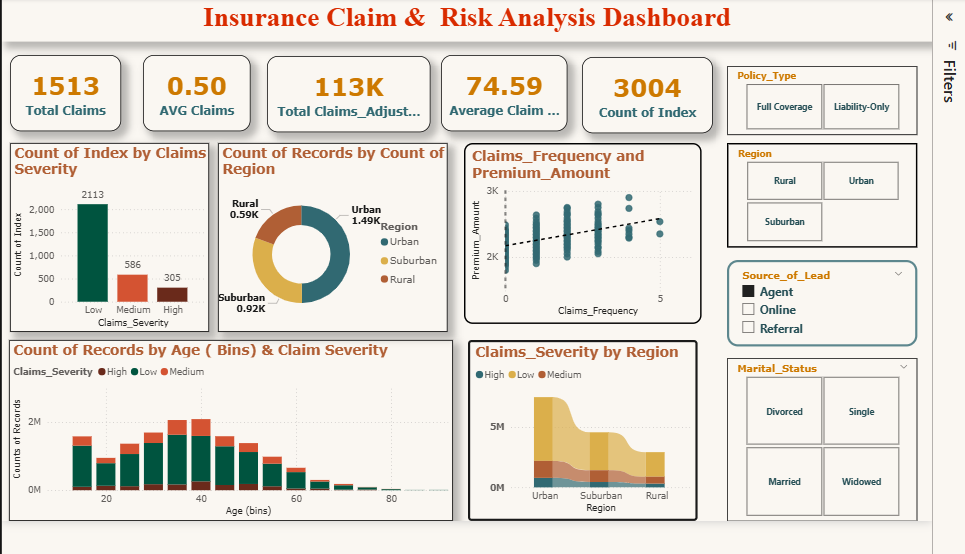

What the dashboard file says about the page in this screenshot:
{"tool":"powerbi","page":{"name":"Page 1","canvas":[1280,720],"ordinal":0},"visuals":[{"type":"textbox","box":[10,0,280,280],"z":0},{"type":"textbox","box":[0,0,1280.2,60.5],"z":1000},{"type":"card","fields":{"Values":["Sum(Isurance_data.Claims_Frequency)"]},"box":[10.6,78.8,152.9,104.7],"z":2000},{"type":"card","fields":{"Values":["Avg(Isurance_data.Claims_Frequency)"]},"box":[194.1,78.8,148.2,104.7],"z":3000},{"type":"card","fields":{"Values":["Sum(Isurance_data.Claims_Adjustment)"]},"box":[365,80,225,105],"z":4000},{"type":"columnChart","title":"Count of Index by Claims Severity","fields":{"Category":["Isurance_data.Claims_Severity"],"Y":["CountNonNull(Isurance_data.Index)"]},"box":[10.5,200,274.4,260.5],"z":5000},{"type":"columnChart","title":"Count of Records  by Age ( Bins) & Claim Severity","fields":{"Category":["Isurance_data.Age (bins)"],"Y":["Sum(Isurance_data.Index)"],"Series":["Isurance_data.Claims_Severity"]},"box":[10,471.2,611.2,248.8],"z":6000},{"type":"donutChart","title":"Count of Records by Count of Region","fields":{"Y":["CountNonNull(Isurance_data.Index)"],"Category":["Isurance_data.Region"]},"box":[297.7,200,316.3,260.5],"z":7000},{"type":"ribbonChart","title":"Claims_Severity by Region  ","fields":{"Category":["Isurance_data.Region"],"Y":["Sum(Isurance_data.Index)"],"Series":["Isurance_data.Claims_Severity"]},"box":[640.7,470.9,316.3,248.8],"z":8000},{"type":"card","fields":{"Values":["Isurance_data.Average Claim Amount"]},"box":[604.7,79.1,174.4,104.7],"z":9000},{"type":"scatterChart","fields":{"X":["Isurance_data.Claims_Frequency"],"Y":["Isurance_data.Premium_Amount"]},"box":[635.3,200,327.1,249.4],"z":10000},{"type":"slicer","fields":{"Values":["Isurance_data.Policy_Type"]},"box":[997.6,92.9,262.4,95.3],"z":11000},{"type":"card","fields":{"Values":["Count(Isurance_data.Index)"]},"box":[798.8,81.2,180,104.7],"z":12000},{"type":"slicer","fields":{"Values":["Isurance_data.Region"]},"box":[997.6,200,262.4,143.5],"z":13000},{"type":"slicer","fields":{"Values":["Isurance_data.Marital_Status"]},"box":[997.6,495.3,262.4,224.7],"z":14000},{"type":"slicer","fields":{"Values":["Isurance_data.Source_of_Lead"]},"box":[997.6,360,262.4,118.8],"z":15000}]}

Visuals, with their boxes in screenshot pixels (x1, y1, x2, y2), scaled from the page's 1280x720 canvas onto the 965x554 screenshot:
textbox: box=[8, 0, 219, 215]
textbox: box=[0, 0, 964, 47]
card - Sum(Isurance_data.Claims_Frequency): box=[8, 61, 123, 141]
card - Avg(Isurance_data.Claims_Frequency): box=[146, 61, 258, 141]
card - Sum(Isurance_data.Claims_Adjustment): box=[275, 62, 445, 142]
"Count of Index by Claims Severity" columnChart: box=[8, 154, 215, 354]
"Count of Records  by Age ( Bins) & Claim Severity" columnChart: box=[8, 363, 468, 553]
"Count of Records by Count of Region" donutChart: box=[224, 154, 463, 354]
"Claims_Severity by Region  " ribbonChart: box=[483, 362, 721, 553]
card - Isurance_data.Average Claim Amount: box=[456, 61, 587, 141]
scatterChart - Isurance_data.Claims_Frequency x Isurance_data.Premium_Amount: box=[479, 154, 726, 346]
slicer - Isurance_data.Policy_Type: box=[752, 71, 950, 145]
card - Count(Isurance_data.Index): box=[602, 62, 738, 143]
slicer - Isurance_data.Region: box=[752, 154, 950, 264]
slicer - Isurance_data.Marital_Status: box=[752, 381, 950, 553]
slicer - Isurance_data.Source_of_Lead: box=[752, 277, 950, 368]
